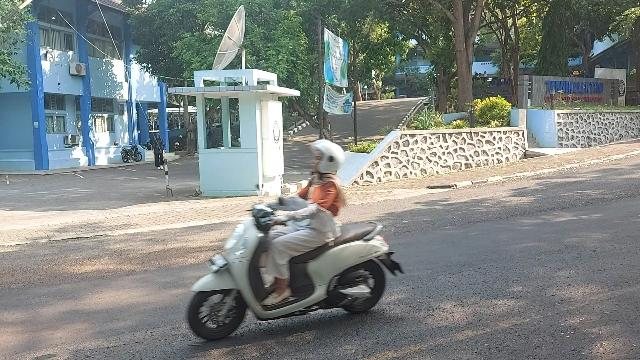helm: (311, 140, 346, 174)
motor: (188, 184, 406, 342)
